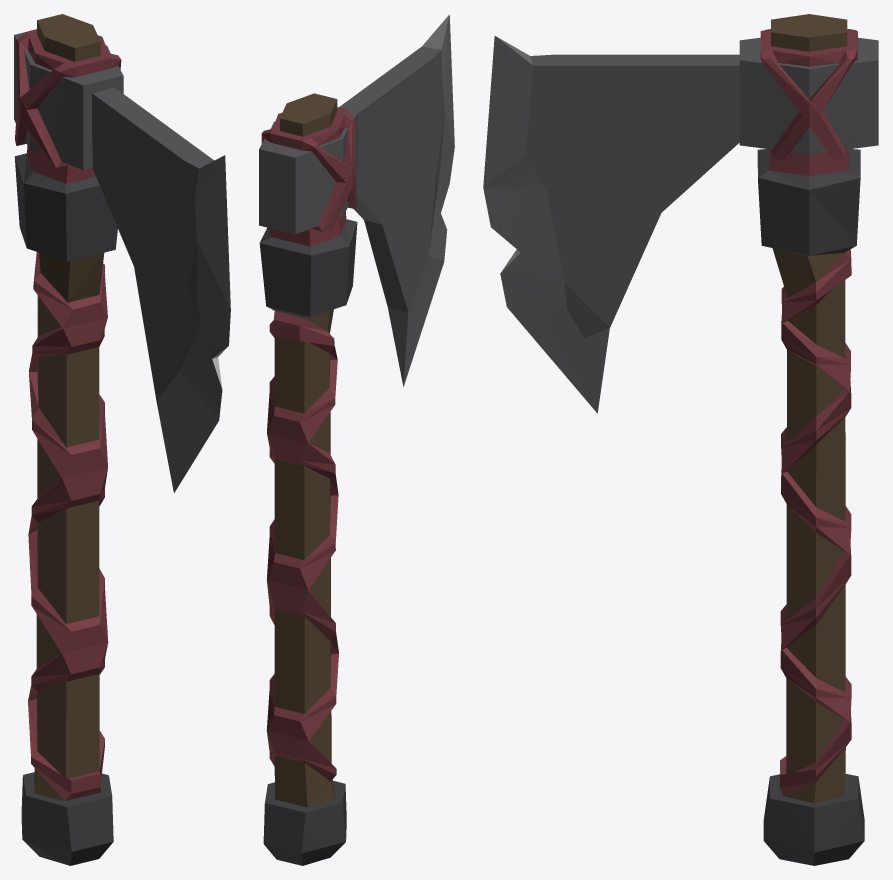
The model's file is Hacha.glb.
3 views of the same model, side by side, from view 1: azimuth 30°, elevation 25°; view 2: azimuth 150°, elevation 25°; view 3: azimuth 270°, elevation 25° (orthographic). The views are drawn at different scales.
Parts seen in each view (by area): view 1: SM_Wep_Axe_01; view 2: SM_Wep_Axe_01; view 3: SM_Wep_Axe_01.
Part boxes in pixels (<box>): SM_Wep_Axe_01: <box>14,14,230,865</box>; SM_Wep_Axe_01: <box>259,14,454,865</box>; SM_Wep_Axe_01: <box>483,14,878,865</box>.
Bounding box in the file's own units: 0.0882 × 0.7117 × 0.309.
1 material, 1 textured.
